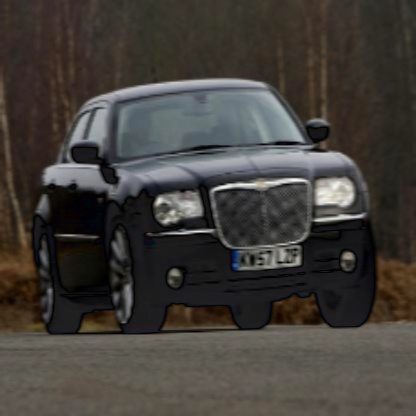Vehicle: (14, 67, 392, 376)
